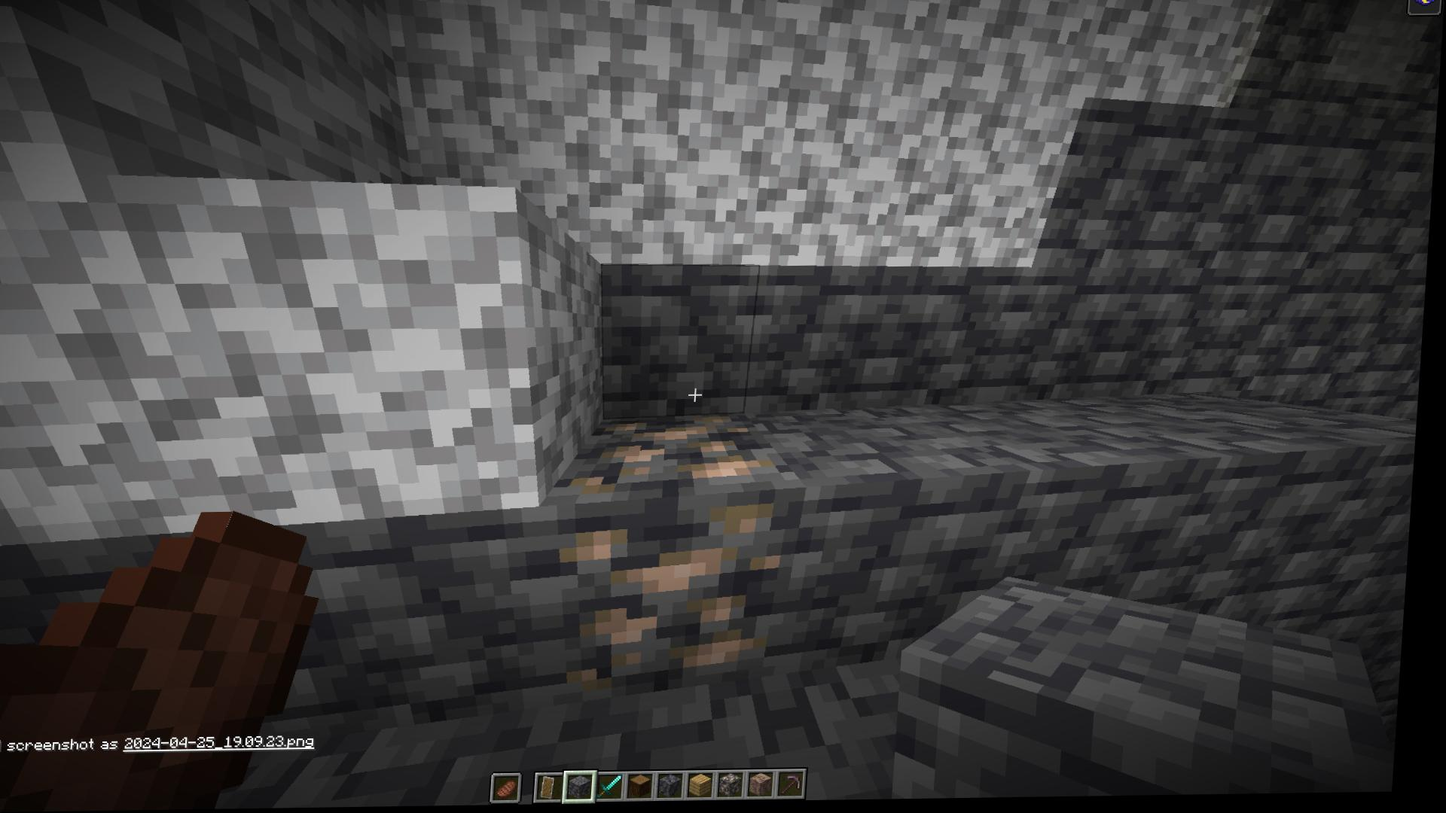iron ore: (565, 412, 796, 676)
